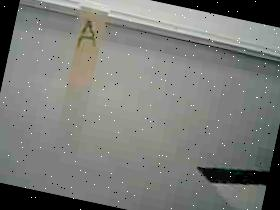Bottle A: (58, 0, 123, 101)
